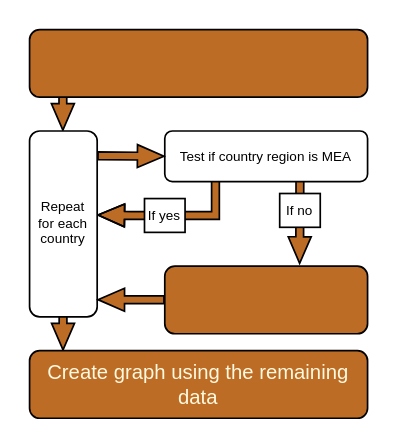
The diagram is 397 pixels wide and 448 high, and some of its shapes have lost their labels. Here are the shapes that lost their labels. From the top down, the box of each, then its label:
(28, 28, 368, 97): Load WB country data
(163, 264, 368, 334): Remove the country from the data set
